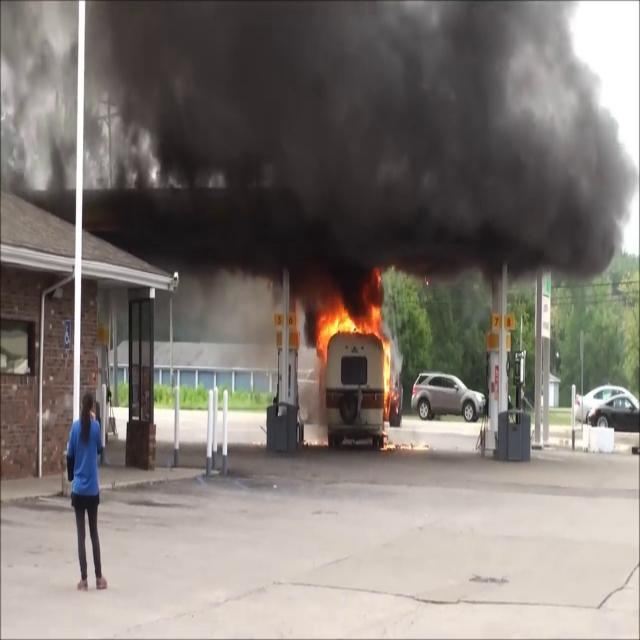Fire: (314, 298, 378, 346), (378, 334, 396, 416)
Smoke: (59, 1, 637, 304)
